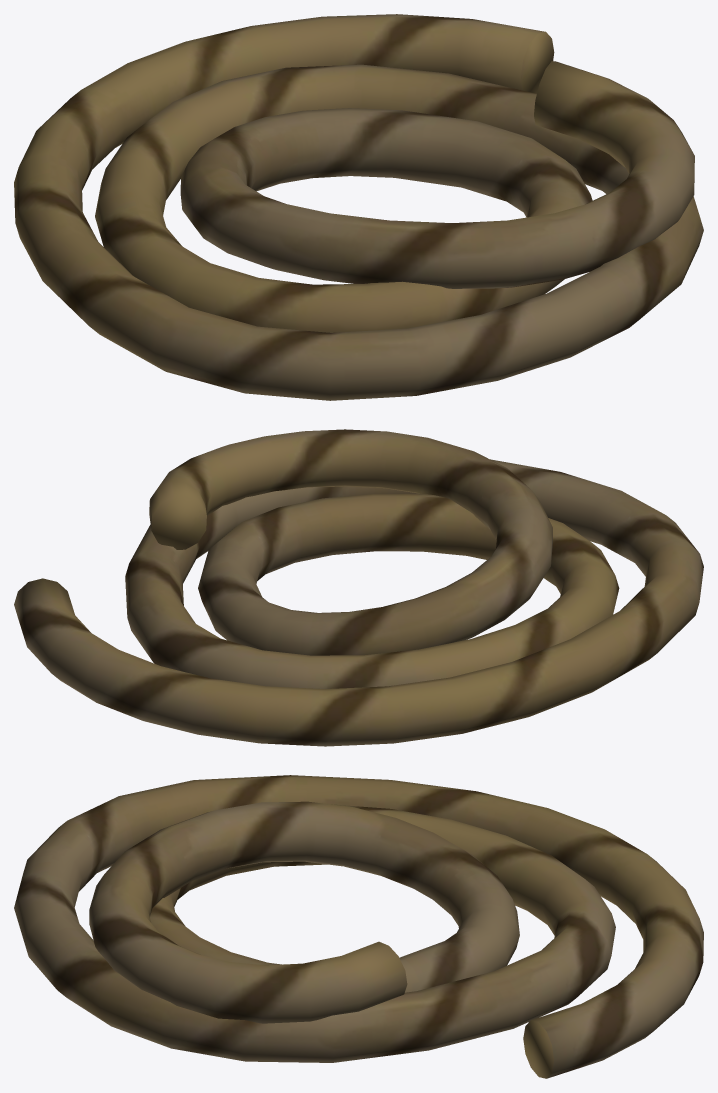
The model's file is Rope_1.gltf.
The picture shows the model from 3 angles, top to bottom: view 1: azimuth 30°, elevation 25°; view 2: azimuth 150°, elevation 25°; view 3: azimuth 270°, elevation 25°; orthographic projection. The views are drawn at different scales.
Parts seen in each view (by area): view 1: Rope_1; view 2: Rope_1; view 3: Rope_1.
Boxes of the visible parts, x1,y1,x2,y2 form: Rope_1: [14, 14, 703, 400]; Rope_1: [14, 429, 703, 746]; Rope_1: [14, 775, 703, 1078].
Bounding box in the file's own units: 0.5574 × 0.0979 × 0.6063.
Materials: 1 (1 with a texture image).
